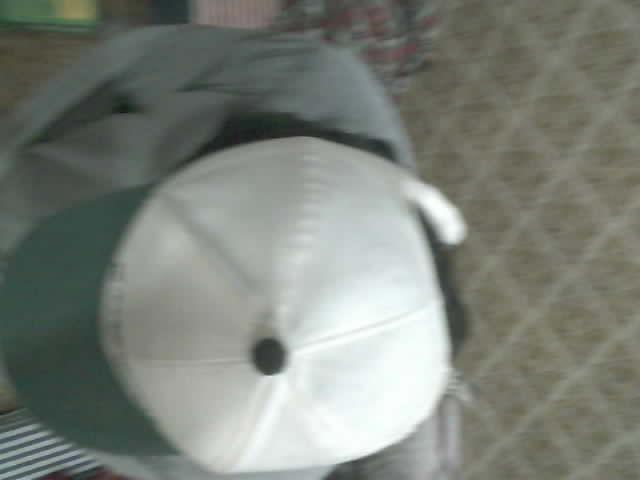cap: (0, 135, 467, 477)
